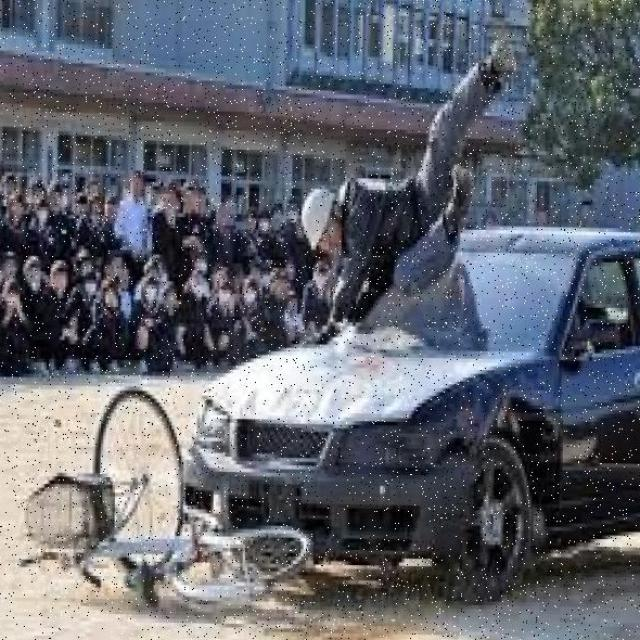accident: (200, 213, 640, 556), (6, 414, 322, 631)
